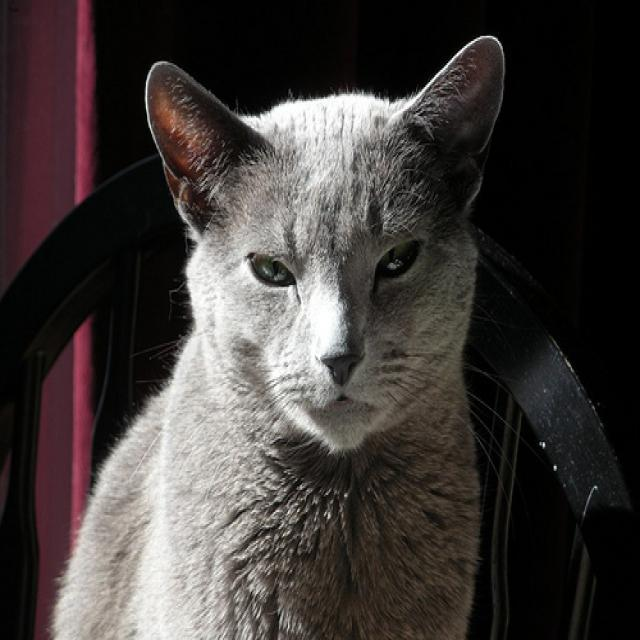Russian_Blue: (143, 33, 510, 457)
